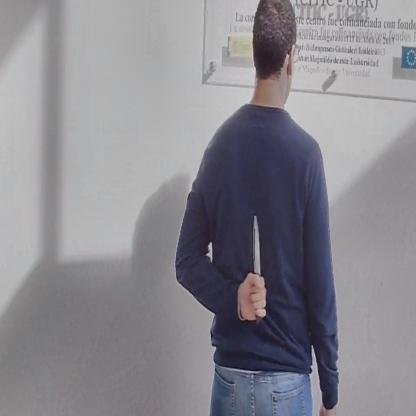knife: (245, 206, 269, 332)
